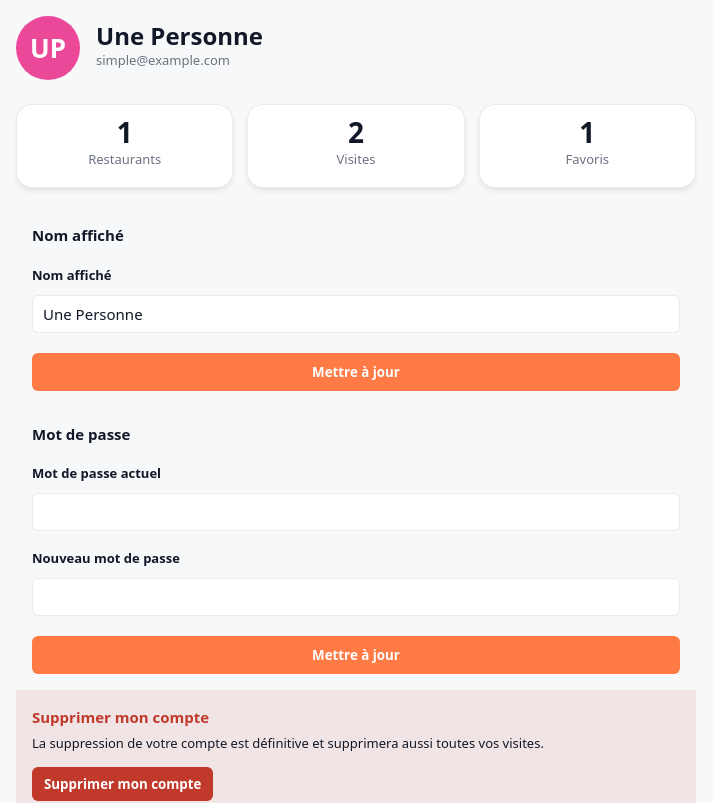
Test case: ProfilPage › affiche une erreur si la suppression du compte échoue sans naviguer
This screenshot has width=713, height=803.
Click the button "Supprimer mon compte" at (123, 784), box [32,767,213,801]
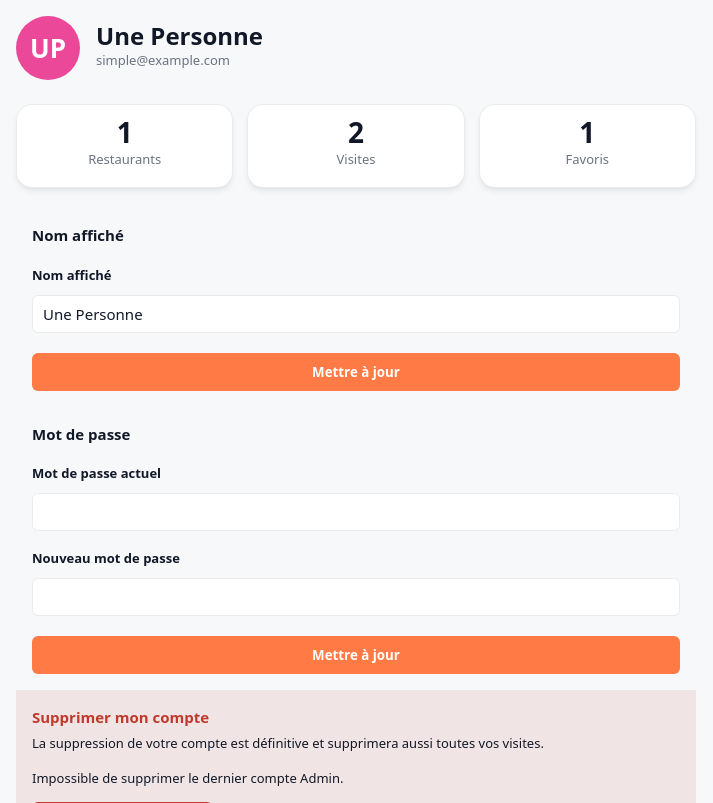
Check: the text "Impossible de supprimer le dernier compte Admin." is shown, box [32,769,343,787]
